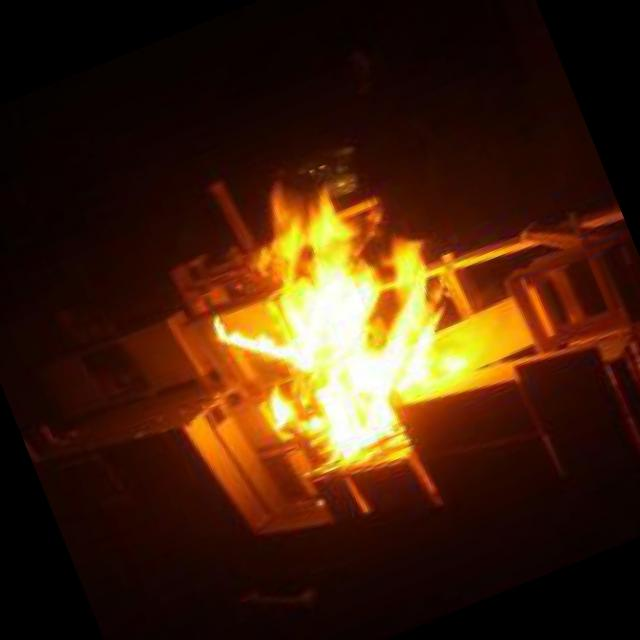fire: (168, 123, 508, 497)
